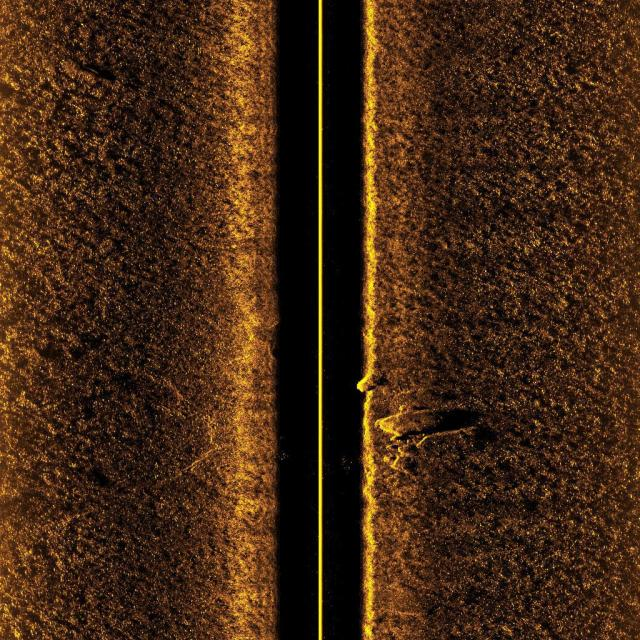other: (358, 370, 394, 396)
